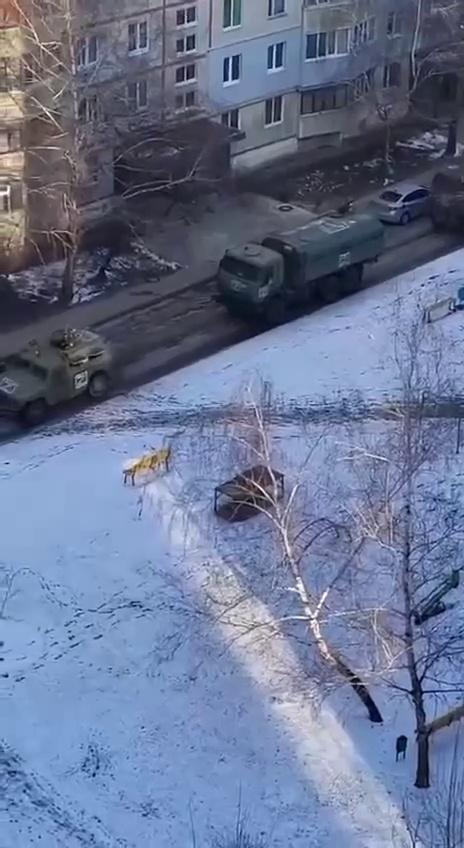armored_car: (0, 328, 114, 428)
car: (370, 181, 440, 226)
truck: (212, 213, 388, 327)
